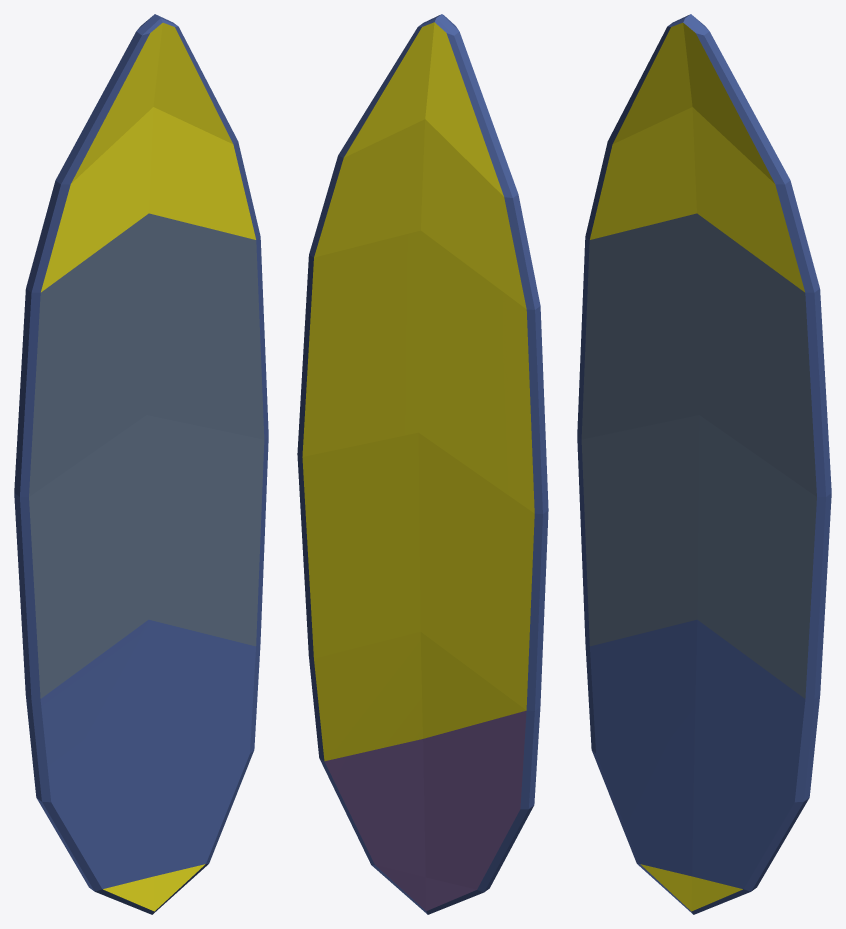
Rendered from Surf_board_02.fbx.
3 views of the same model, side by side, from view 1: azimuth 30°, elevation 25°; view 2: azimuth 150°, elevation 25°; view 3: azimuth 330°, elevation 25° (orthographic).
Parts seen in each view (by area): view 1: Surf_board_02; view 2: Surf_board_02; view 3: Surf_board_02.
Part boxes in pixels (x1,y1,x2,y2): Surf_board_02: (14, 14, 268, 914); Surf_board_02: (297, 14, 548, 914); Surf_board_02: (577, 14, 831, 914).
Size of the model in its own units: 69.03 by 239 by 12.39.
